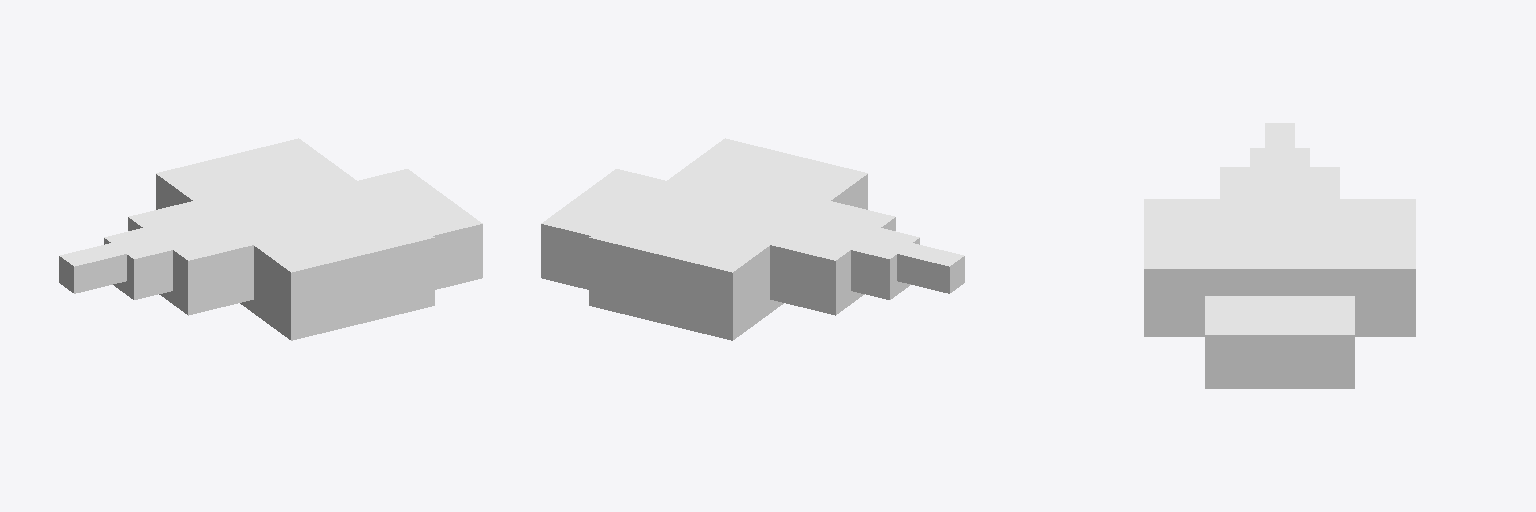
File: BirdEnemy-13.obj
3 renders of one model, left to right at view 1: azimuth 30°, elevation 25°; view 2: azimuth 150°, elevation 25°; view 3: azimuth 270°, elevation 25°, orthographic.
Visible parts, largest first — view 1: object 1; view 2: object 1; view 3: object 1.
Boxes of the visible parts, box(x1,y1,x2,y2) form: object 1: box(59, 138, 482, 340); object 1: box(541, 138, 964, 340); object 1: box(1144, 123, 1415, 388).
Bounding box in the file's own units: 2.9 × 0.6 × 1.8.